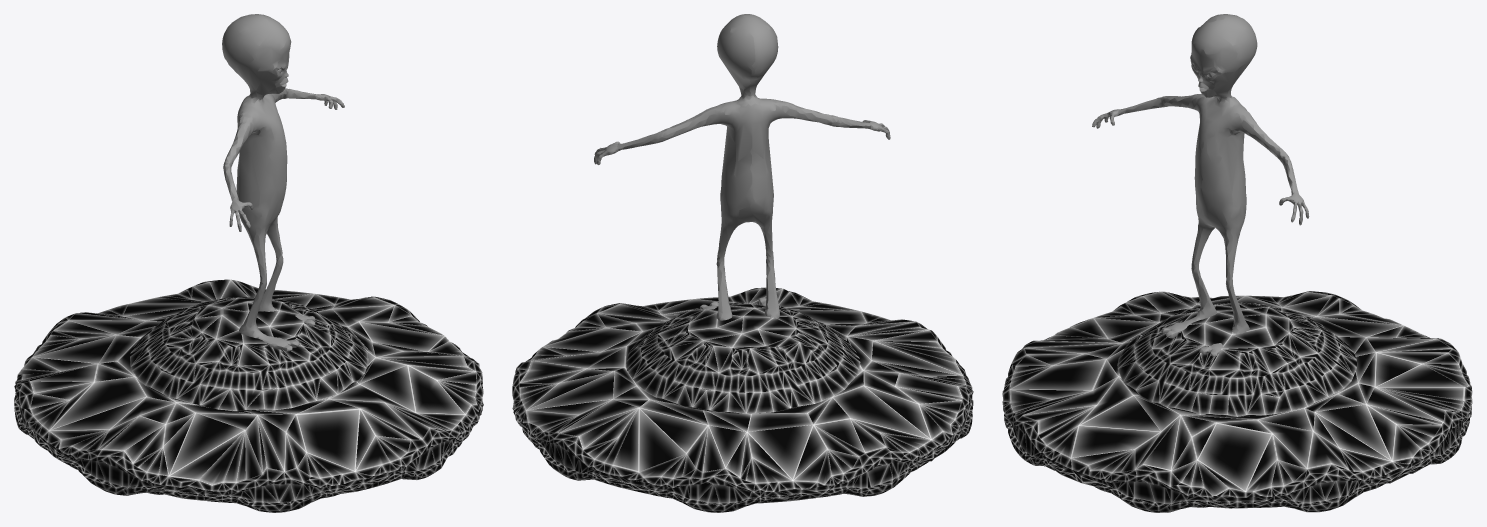
File: frame_082.obj
3 views of the same model, side by side, from view 1: azimuth 30°, elevation 25°; view 2: azimuth 150°, elevation 25°; view 3: azimuth 270°, elevation 25° (orthographic). The views are drawn at different scales.
Visible parts, largest first — view 1: 13884_UFO_Saucer_v1_l2, 10469_GrayAlien_v01; view 2: 13884_UFO_Saucer_v1_l2, 10469_GrayAlien_v01; view 3: 13884_UFO_Saucer_v1_l2, 10469_GrayAlien_v01.
Boxes of the visible parts, left/top/right/bottom form: 13884_UFO_Saucer_v1_l2: left=14, top=279, right=483, bottom=512; 10469_GrayAlien_v01: left=222, top=14, right=344, bottom=351; 13884_UFO_Saucer_v1_l2: left=512, top=287, right=973, bottom=512; 10469_GrayAlien_v01: left=594, top=14, right=890, bottom=320; 13884_UFO_Saucer_v1_l2: left=1002, top=291, right=1472, bottom=512; 10469_GrayAlien_v01: left=1092, top=14, right=1309, bottom=356.
Bounding box in the file's own units: 12.69 × 13.85 × 12.7.
